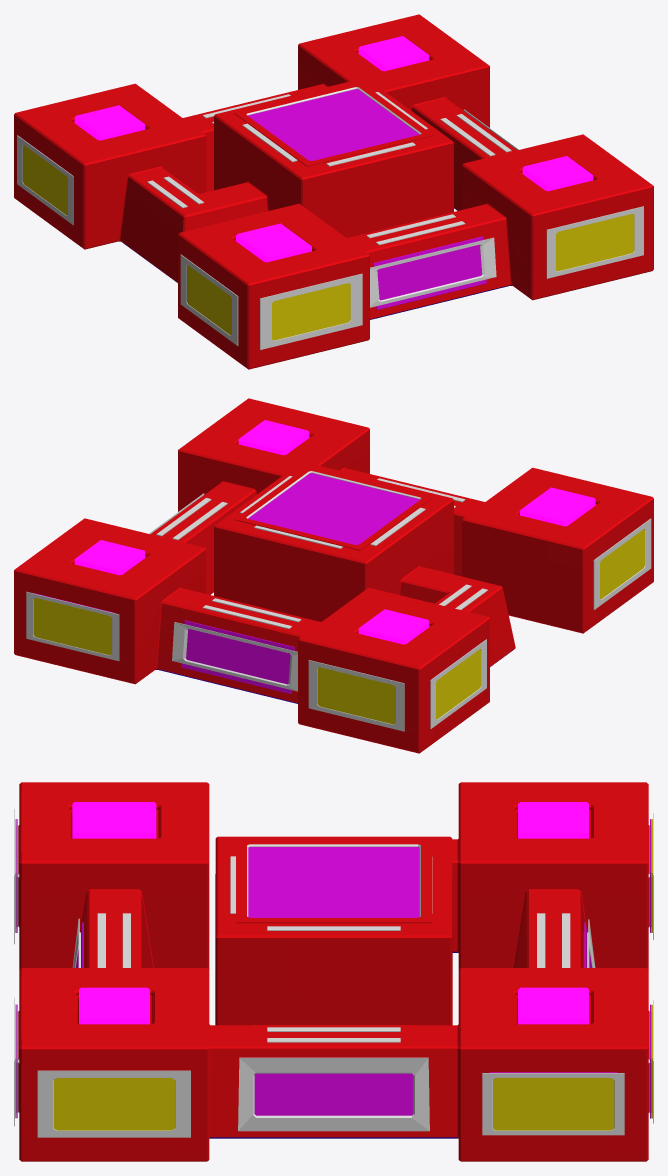
Rendered from TheSquare2.fbx.
3 renders of one model, top to bottom at view 1: azimuth 30°, elevation 25°; view 2: azimuth 150°, elevation 25°; view 3: azimuth 270°, elevation 25°, orthographic. The views are drawn at different scales.
Parts seen in each view (by area): view 1: Rooms, Glass.011, Glass.010, WindowBlind.006, WindowBlind.009, WindowBlind.004, WindowBlind.005; view 2: Rooms, Glass.011, Glass.009, WindowBlind.002, WindowBlind.003, WindowBlind.004, WindowBlind.005; view 3: Rooms, Glass.011, Glass.008, WindowBlind.007, WindowBlind.008, Lamp.002, Lamp.003, Lamp.007.
Boxes of the visible parts, x1,y1,x2,y2 form: Rooms: (14,14,653,369); Glass.011: (248,89,419,160); Glass.010: (373,236,486,309); WindowBlind.006: (272,283,350,340); WindowBlind.009: (556,214,634,271); WindowBlind.004: (23,145,67,215); WindowBlind.005: (187,265,231,335); Rooms: (14,398,653,753); Glass.011: (248,473,419,544); Glass.009: (181,620,294,693); WindowBlind.002: (33,598,111,655); WindowBlind.003: (317,667,395,724); WindowBlind.004: (436,649,481,719); WindowBlind.005: (600,529,644,599); Rooms: (14,782,653,1161); Glass.011: (248,847,419,917); Glass.008: (254,1073,413,1115); WindowBlind.007: (493,1078,614,1130); WindowBlind.008: (54,1078,174,1130); Lamp.002: (267,1038,400,1042); Lamp.003: (267,1027,400,1031); Lamp.007: (267,926,400,930).
Size of the model in its own units: 2040 by 523 by 2040.
